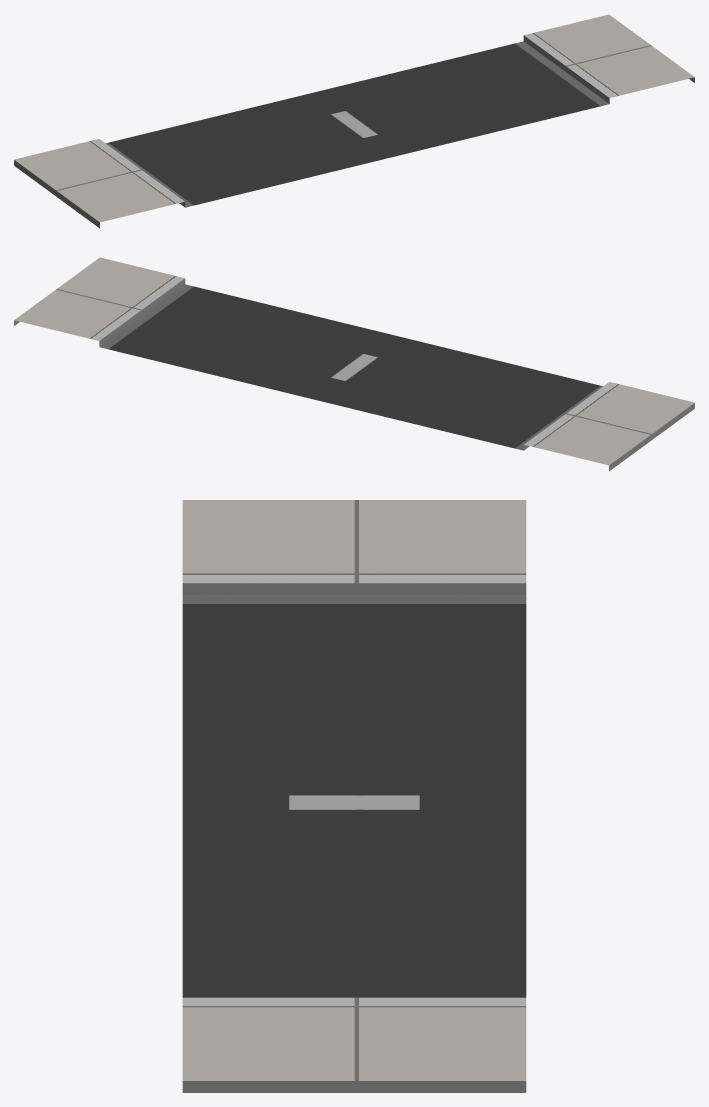
The model's file is Road_Straight.fbx.
The picture shows the model from 3 angles, top to bottom: view 1: azimuth 30°, elevation 25°; view 2: azimuth 150°, elevation 25°; view 3: azimuth 270°, elevation 25°; orthographic projection. The views are drawn at different scales.
Visible parts, largest first — view 1: Env_Road_Straight; view 2: Env_Road_Straight; view 3: Env_Road_Straight.
Boxes of the visible parts, x1,y1,x2,y2 form: Env_Road_Straight: (14,14,694,228); Env_Road_Straight: (14,257,694,471); Env_Road_Straight: (182,500,526,1092).
Bounding box in the file's own units: 500 × 4.87 × 125.
Materials: 1 (1 with a texture image).
